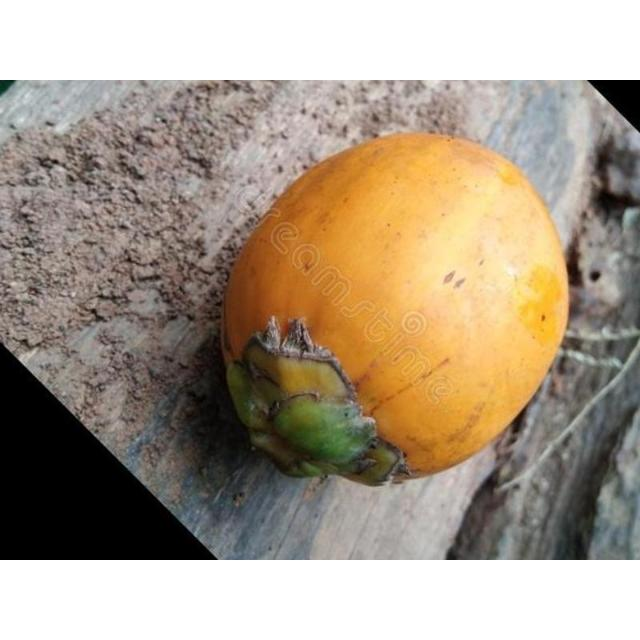good: (216, 131, 571, 491)
